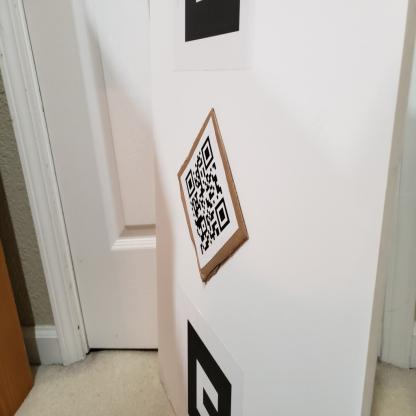qr: (182, 135, 237, 263)
